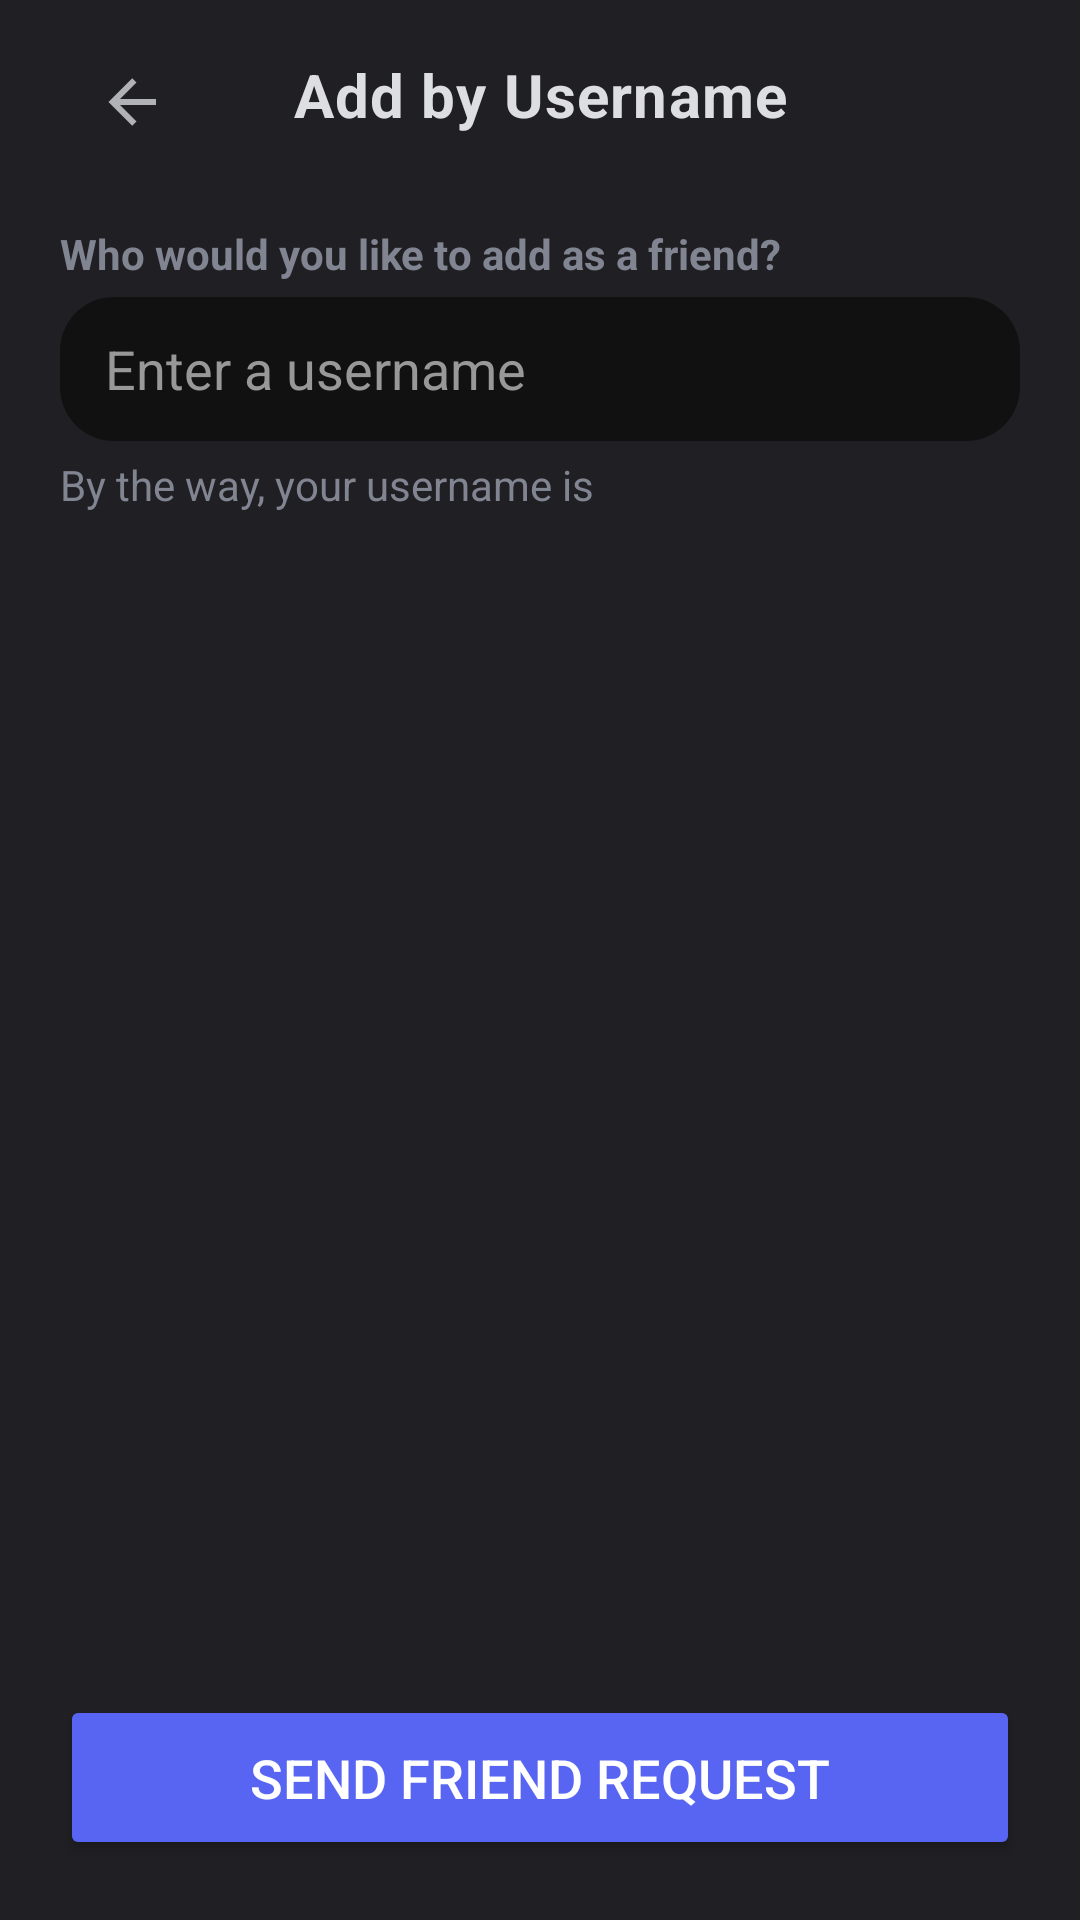

Where to tap for icons on this 1080 x 1920 app screen, as point (x, y):
Back: point (132, 102)
